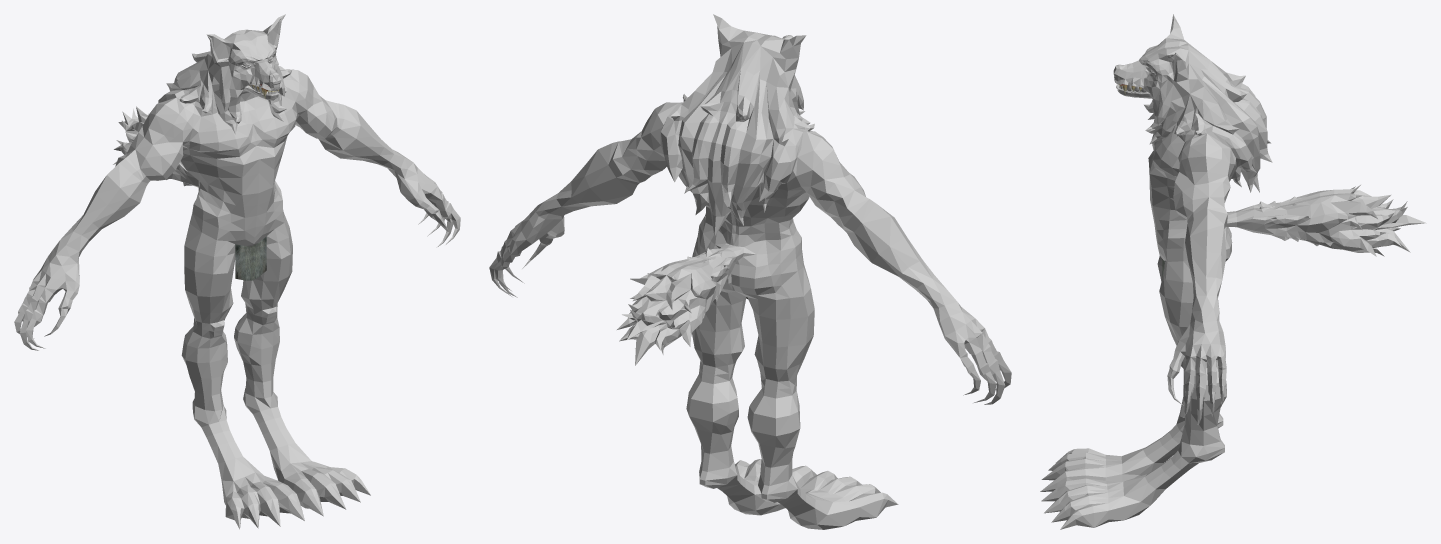
The model's file is werewolf.obj.
3 renders of one model, left to right at view 1: azimuth 30°, elevation 25°; view 2: azimuth 150°, elevation 25°; view 3: azimuth 270°, elevation 25°, orthographic. The views are drawn at different scales.
Parts seen in each view (by area): view 1: werewolf_body, werewolf_groin; view 2: werewolf_body; view 3: werewolf_body.
Part boxes in pixels (<box>): werewolf_body: <box>14,14,460,529</box>; werewolf_groin: <box>235,236,266,280</box>; werewolf_body: <box>489,14,1011,529</box>; werewolf_body: <box>1040,14,1426,529</box>.
Bounding box in the file's own units: 173 × 168 × 128.
